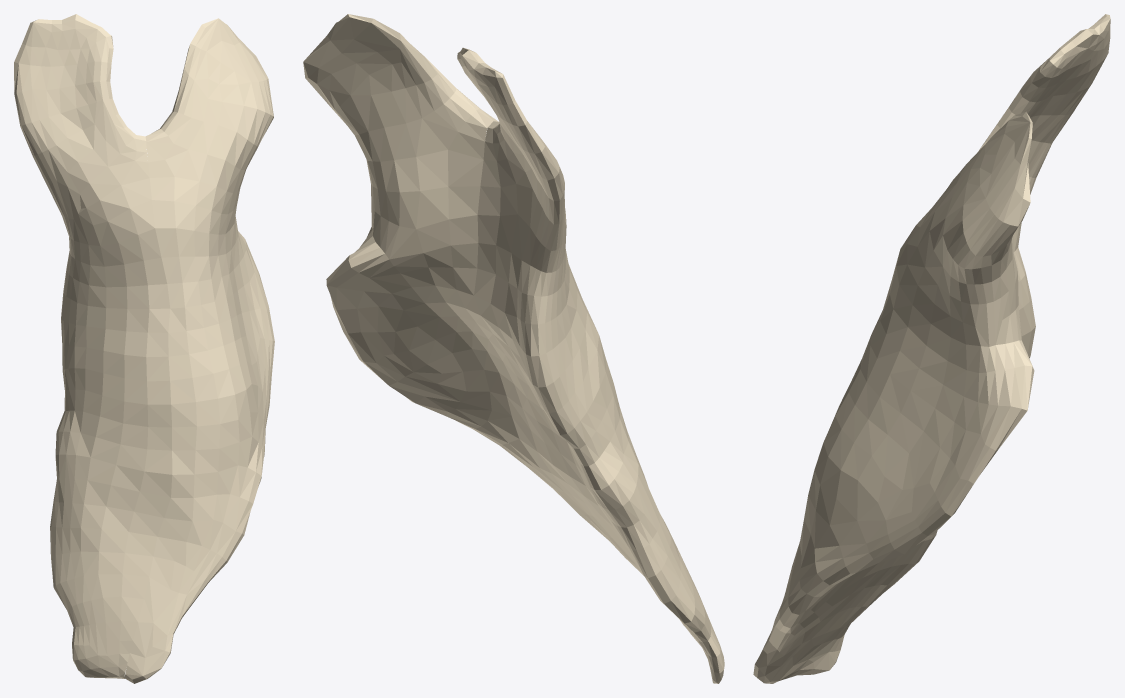
File: VH_M_Thymus_0.8.glb
3 renders of one model, left to right at view 1: azimuth 30°, elevation 25°; view 2: azimuth 150°, elevation 25°; view 3: azimuth 270°, elevation 25°, orthographic. The views are drawn at different scales.
Visible parts, largest first — view 1: VH_M_thymus_lobe_L, VH_M_thymus_lobe_R; view 2: VH_M_thymus_lobe_R, VH_M_thymus_lobe_L; view 3: VH_M_thymus_lobe_R, VH_M_thymus_lobe_L.
Part boxes in pixels (x1=…): VH_M_thymus_lobe_L: x1=14, y1=14, x2=172, y2=678; VH_M_thymus_lobe_R: x1=123, y1=18, x2=274, y2=683; VH_M_thymus_lobe_R: x1=303, y1=14, x2=643, y2=575; VH_M_thymus_lobe_L: x1=457, y1=47, x2=724, y2=683; VH_M_thymus_lobe_R: x1=753, y1=112, x2=1034, y2=683; VH_M_thymus_lobe_L: x1=788, y1=14, x2=1110, y2=677.
Bounding box in the file's own units: 0.037 × 0.0757 × 0.0351.
